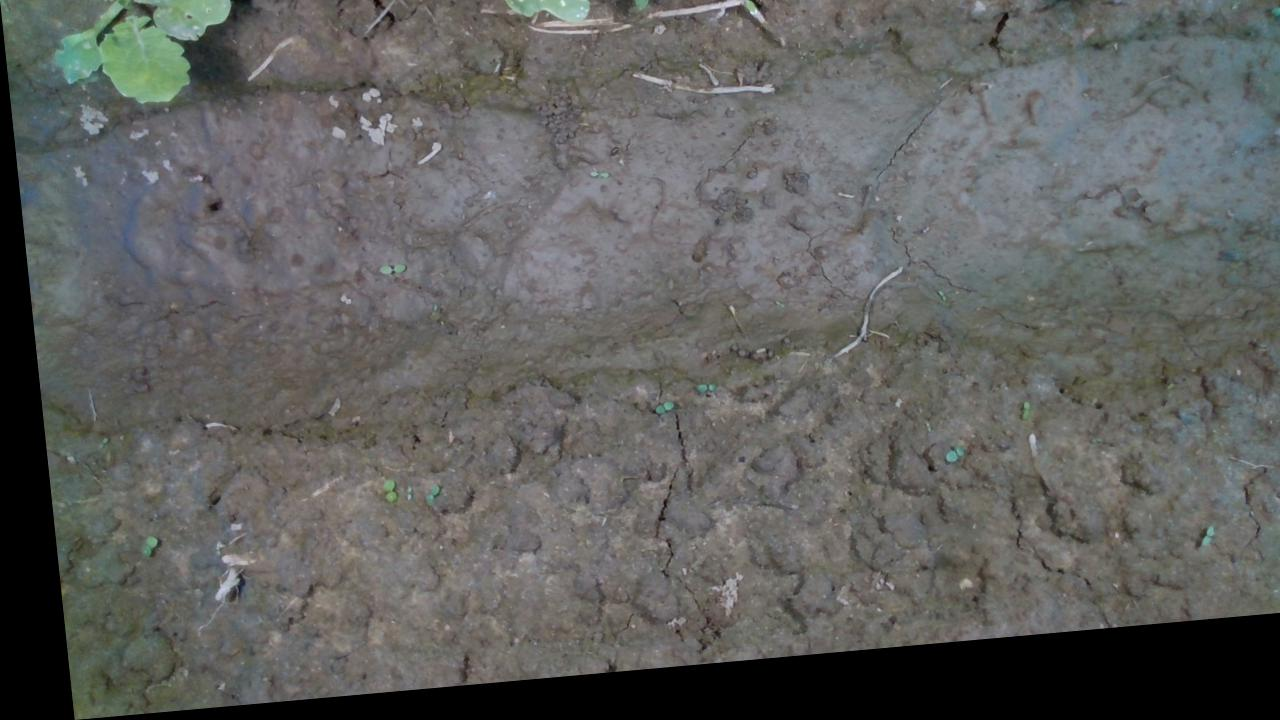weed: (363, 264, 408, 289), (366, 481, 390, 512), (124, 534, 148, 562), (1181, 540, 1205, 568), (642, 407, 667, 433), (928, 454, 950, 483), (581, 173, 607, 193), (1007, 415, 1022, 440), (681, 392, 704, 408), (409, 488, 423, 512)
